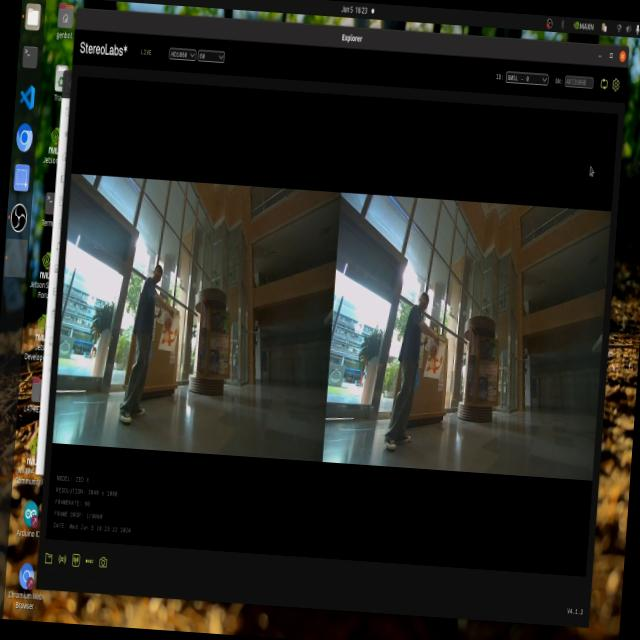red: (418, 345, 448, 381), (157, 303, 176, 352)
